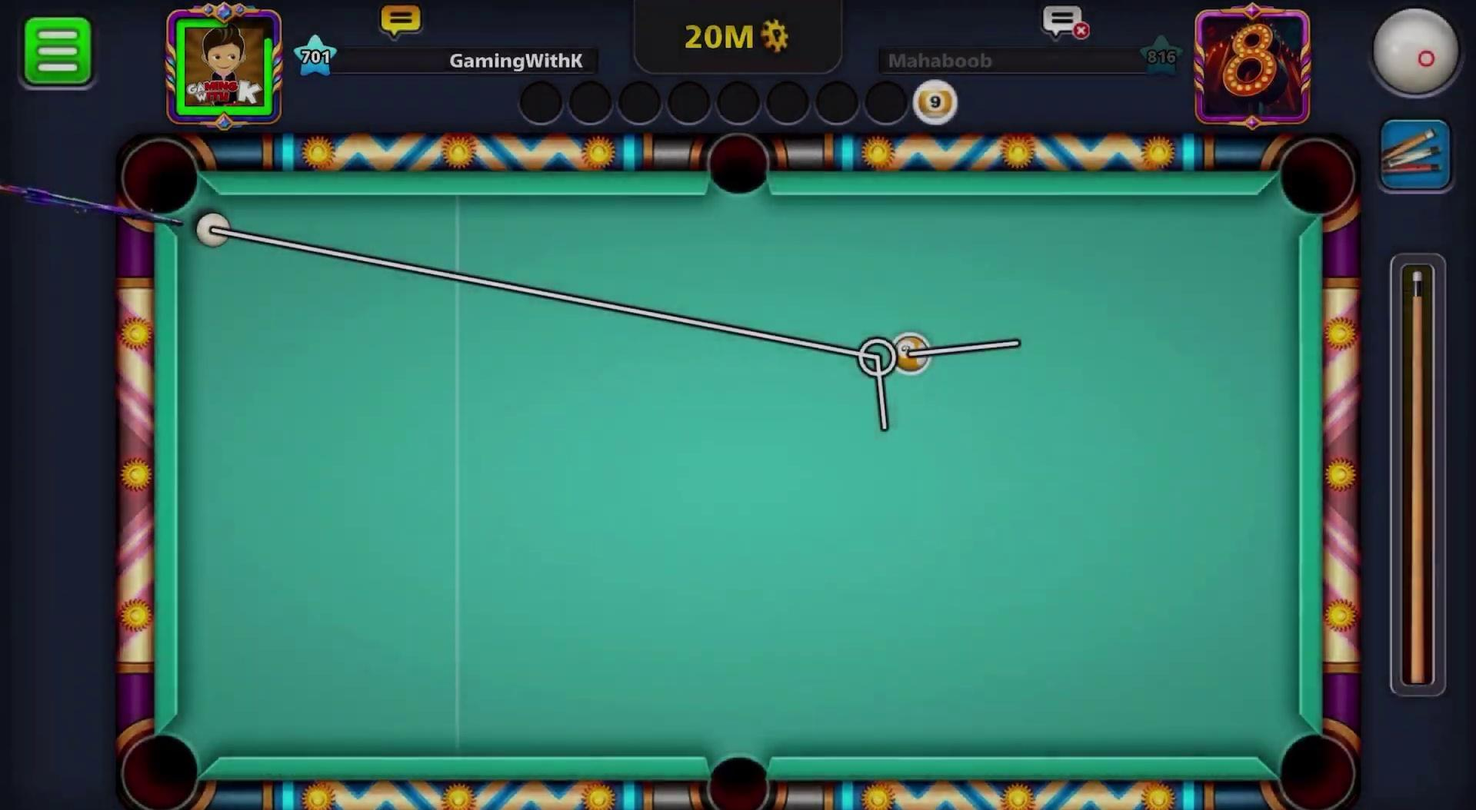Ball: (885, 337, 929, 376)
Force: (1388, 254, 1451, 705)
Guideline: (198, 213, 1021, 431)
Hole: (101, 125, 232, 241), (1267, 127, 1367, 232), (109, 716, 214, 809), (1264, 717, 1364, 809), (685, 127, 789, 214), (684, 734, 788, 809)
Play_Area: (173, 203, 1294, 762)
Spin: (1345, 0, 1475, 112)
White: (189, 205, 240, 251)
